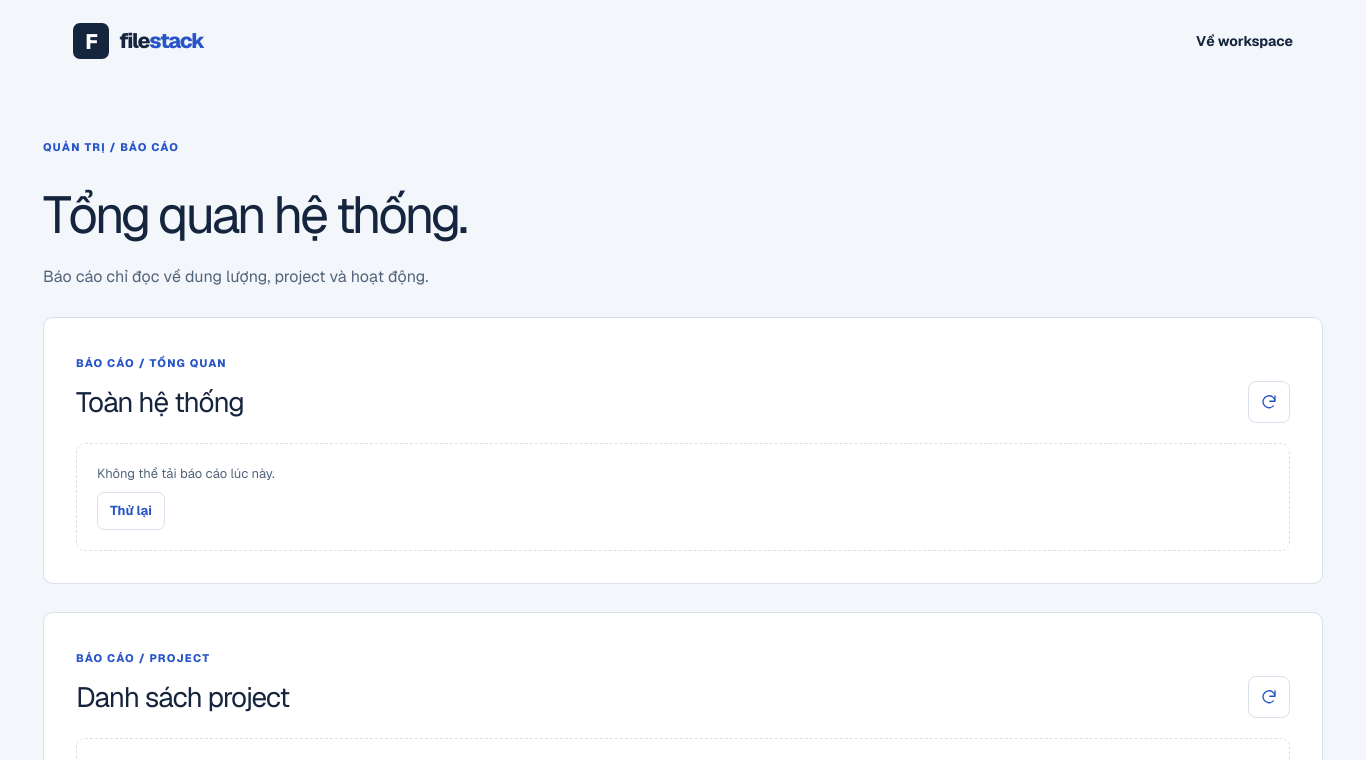
Test: offers retry when a report fails
Expected: the message shows "Không thể tải báo cáo", [97,466,275,482]
Step 1. Click the button "Thử lại" → (131, 511), box [97,492,165,530]
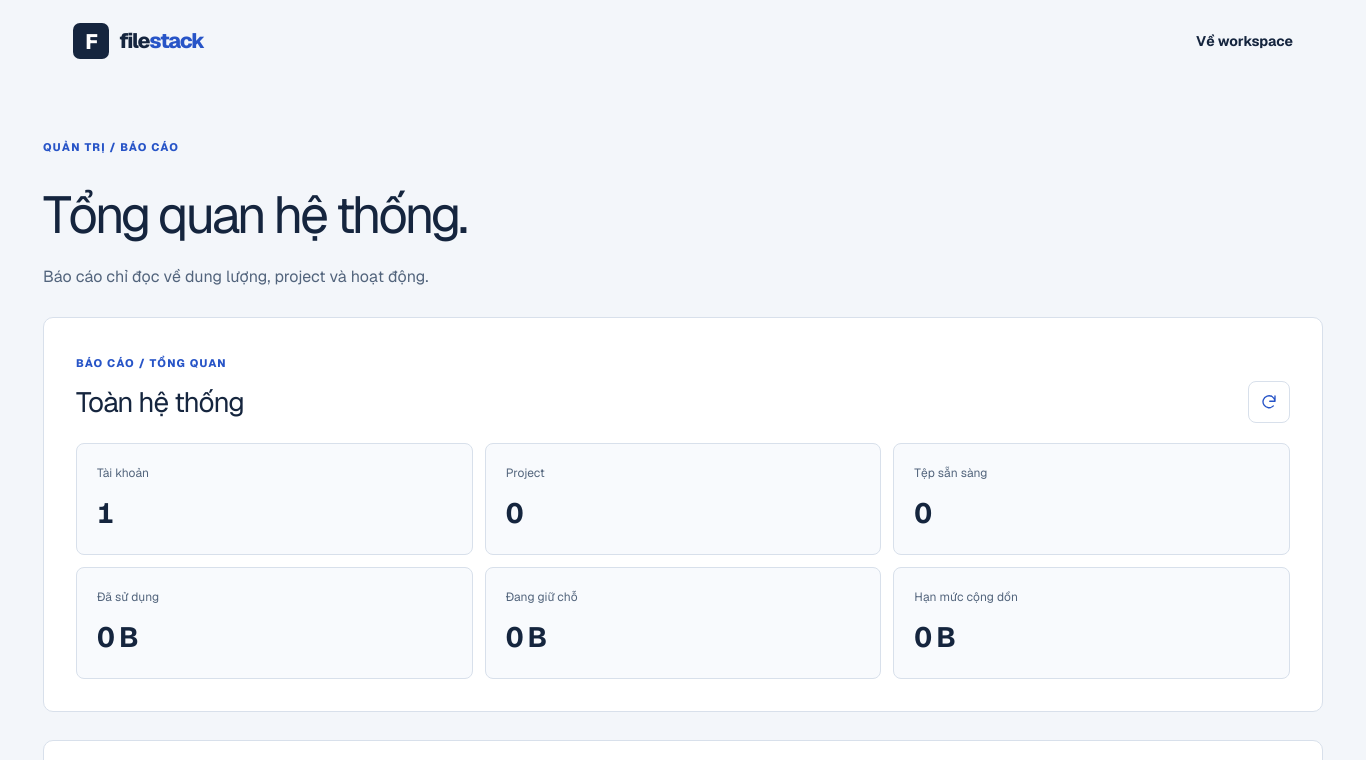
Now the text "Hạn mức cộng dồn" is shown, box [914,590,1018,606]
